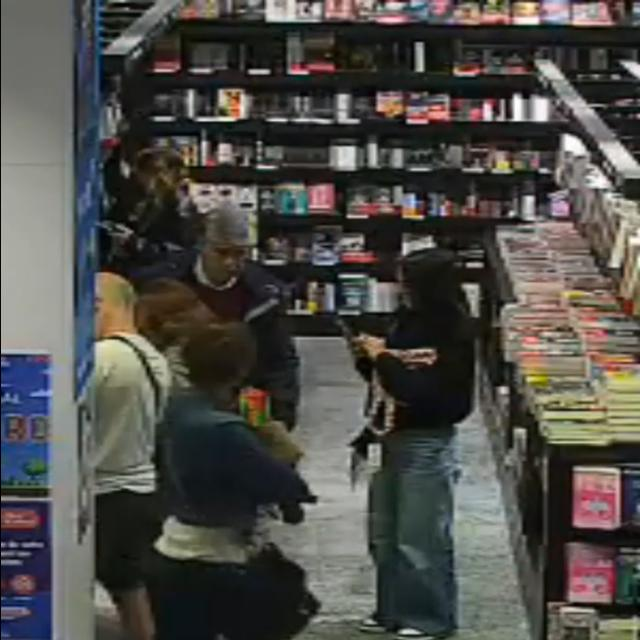bags: (247, 544, 320, 639), (368, 371, 405, 436)
hands: (348, 335, 366, 359)
person: (148, 324, 313, 639), (352, 249, 475, 638), (137, 203, 299, 428), (93, 274, 170, 639), (358, 335, 385, 360)
